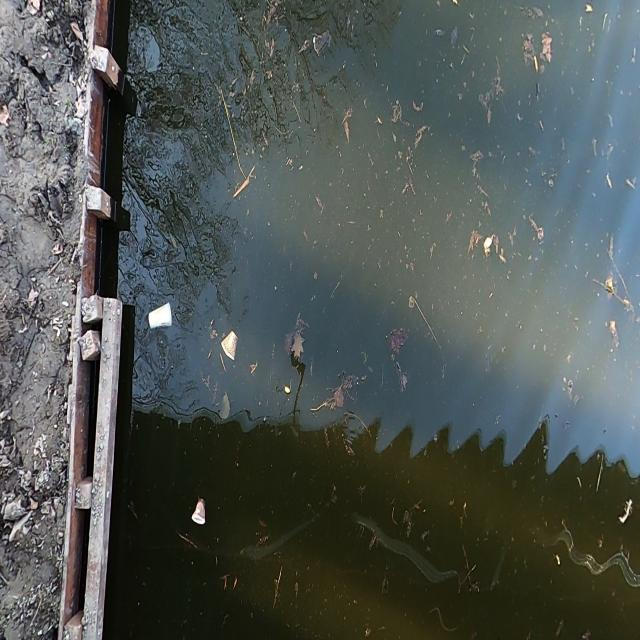Non plastique: (145, 299, 174, 337), (186, 494, 211, 532), (220, 326, 241, 365)
